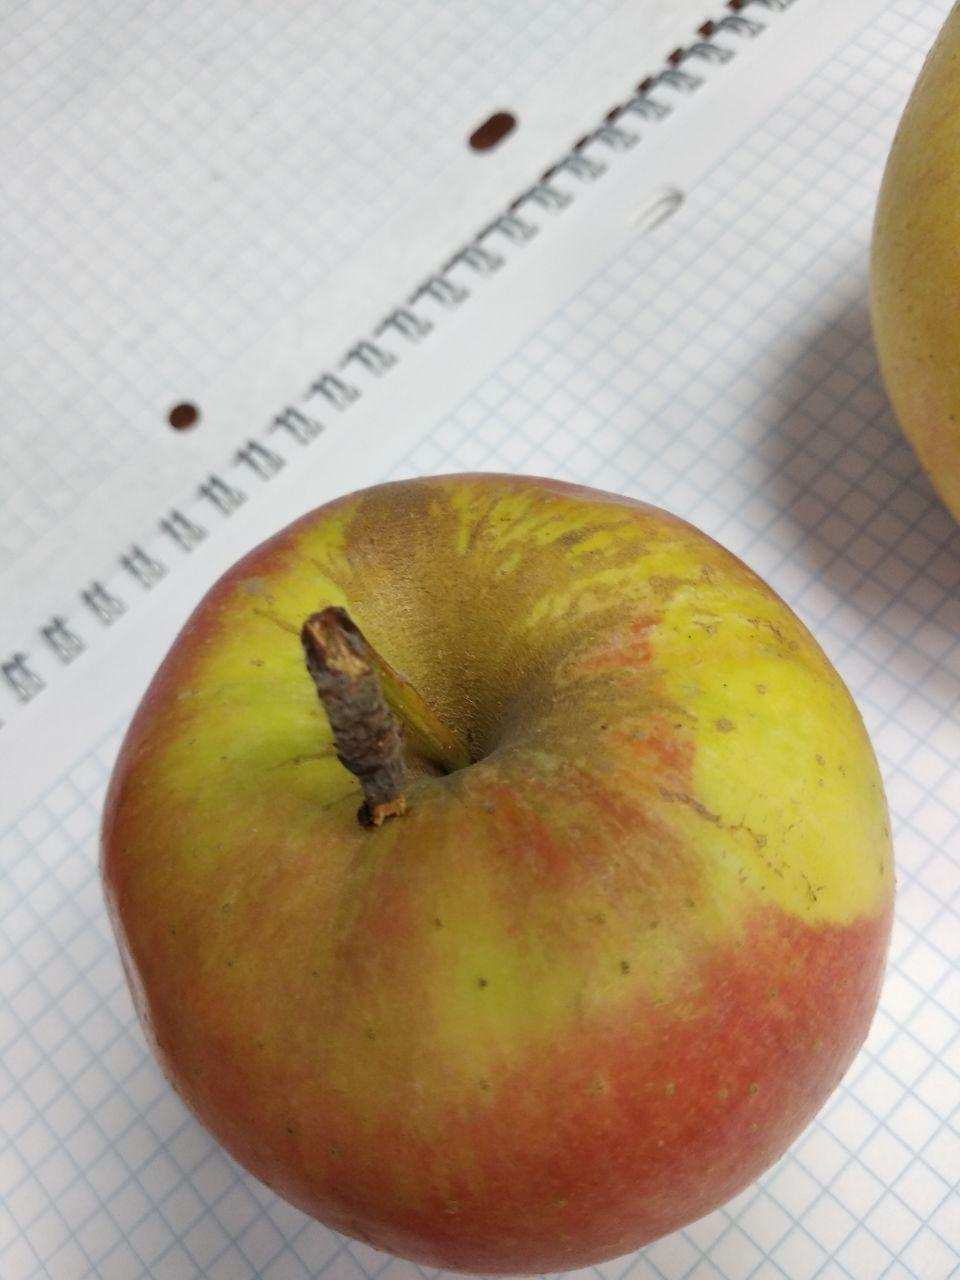Apple: (100, 475, 895, 1280)
